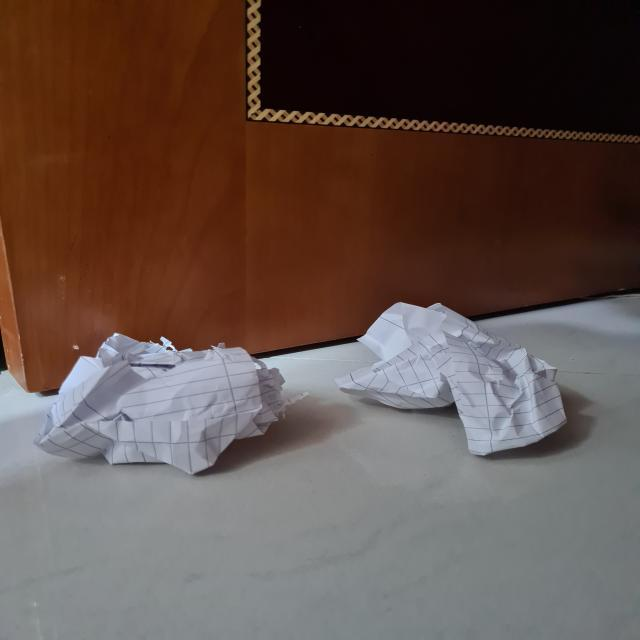Paper: (337, 302, 567, 454), (33, 335, 285, 473)
